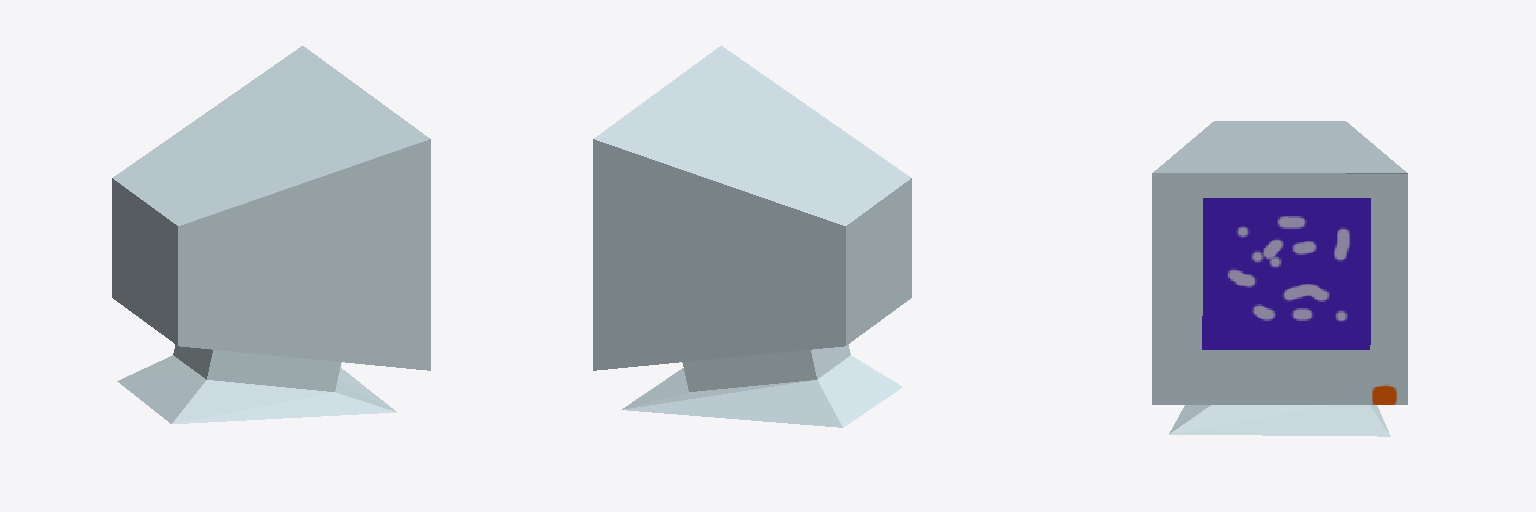
3 views of the same model, side by side, from view 1: azimuth 30°, elevation 25°; view 2: azimuth 150°, elevation 25°; view 3: azimuth 270°, elevation 25° (orthographic).
Parts seen in each view (by area): view 1: Cube; view 2: Cube; view 3: Cube.
Part boxes in pixels (left/top/right/bottom): Cube: left=112, top=46, right=430, bottom=423; Cube: left=593, top=46, right=911, bottom=427; Cube: left=1152, top=121, right=1407, bottom=436.
Bounding box in the file's own units: 2 × 2.36 × 2.
1 materials, 1 textured.